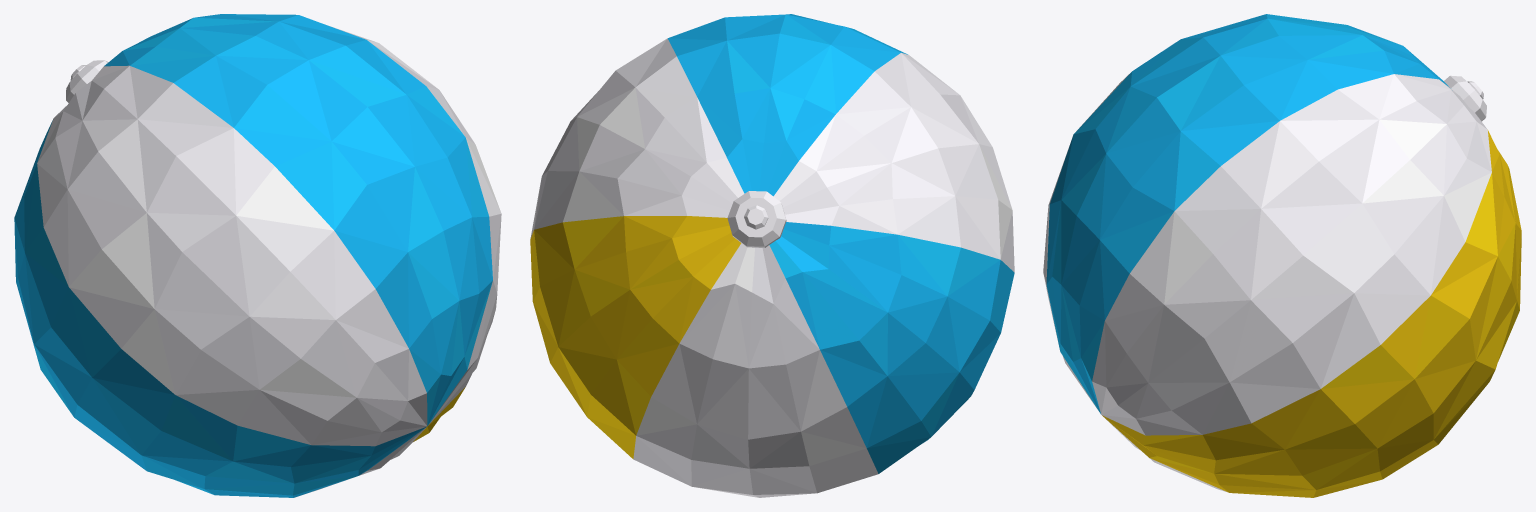
The model's file is Ball_03_Beach.glb.
3 renders of one model, left to right at view 1: azimuth 30°, elevation 25°; view 2: azimuth 150°, elevation 25°; view 3: azimuth 270°, elevation 25°, orthographic.
Visible parts, largest first — view 1: Ball_03_Beach.001; view 2: Ball_03_Beach.001; view 3: Ball_03_Beach.001.
Boxes of the visible parts, box(x1,y1,x2,y2) form: Ball_03_Beach.001: box(14, 14, 501, 497); Ball_03_Beach.001: box(530, 14, 1014, 497); Ball_03_Beach.001: box(1043, 14, 1521, 497).
Size of the model in its own units: 2 by 1.99 by 1.98.
1 material, 1 textured.
